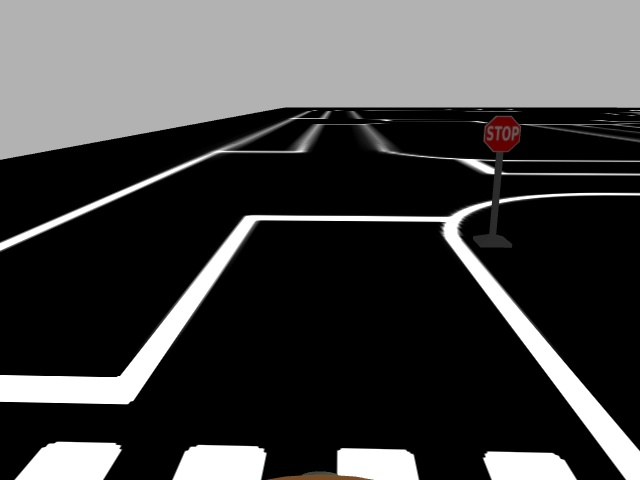stop: (481, 114, 523, 155)
